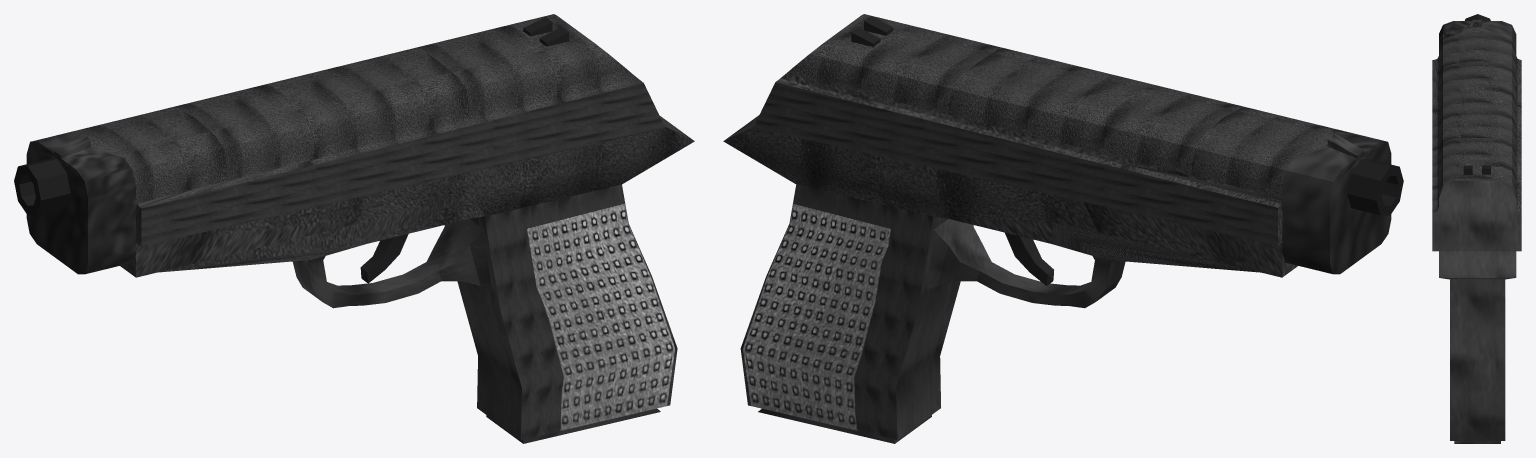
File: Gun.fbx
The picture shows the model from 3 angles, left to right: view 1: azimuth 30°, elevation 25°; view 2: azimuth 150°, elevation 25°; view 3: azimuth 270°, elevation 25°; orthographic projection. The views are drawn at different scales.
Visible parts, largest first — view 1: Gun.001, Gun; view 2: Gun.001, Gun; view 3: Gun, Gun.001.
Part boxes in pixels (bbox=[...]): Gun.001: bbox=[26, 14, 694, 277]; Gun: bbox=[14, 17, 693, 443]; Gun.001: bbox=[723, 14, 1391, 277]; Gun: bbox=[724, 16, 1403, 443]; Gun: bbox=[1432, 14, 1521, 443]; Gun.001: bbox=[1432, 19, 1521, 279].
Bounding box in the file's own units: 57.68 × 34.4 × 11.12.
